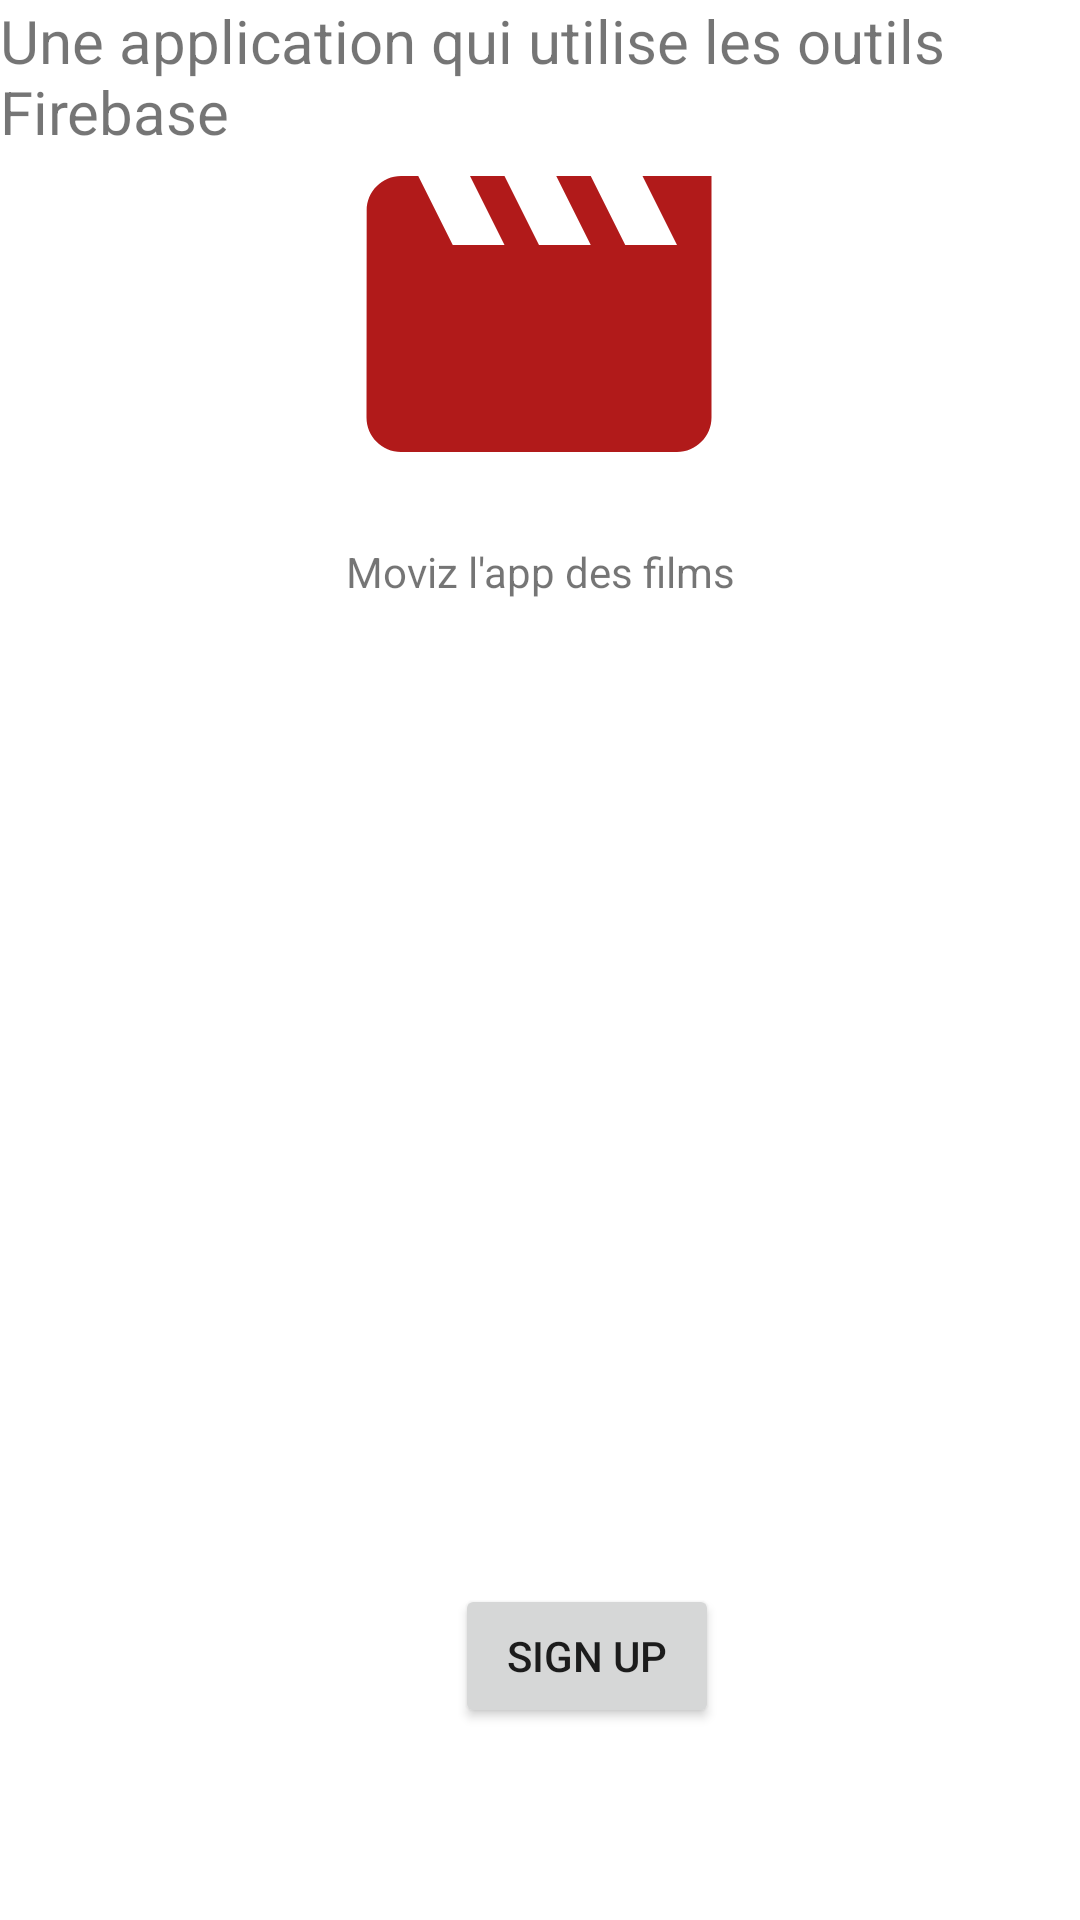

Locate icon controls on the screen. Image size 1080w x 1920h, boxes as box(x1, y1, x2, y2).
movie: box(366, 176, 712, 452)
